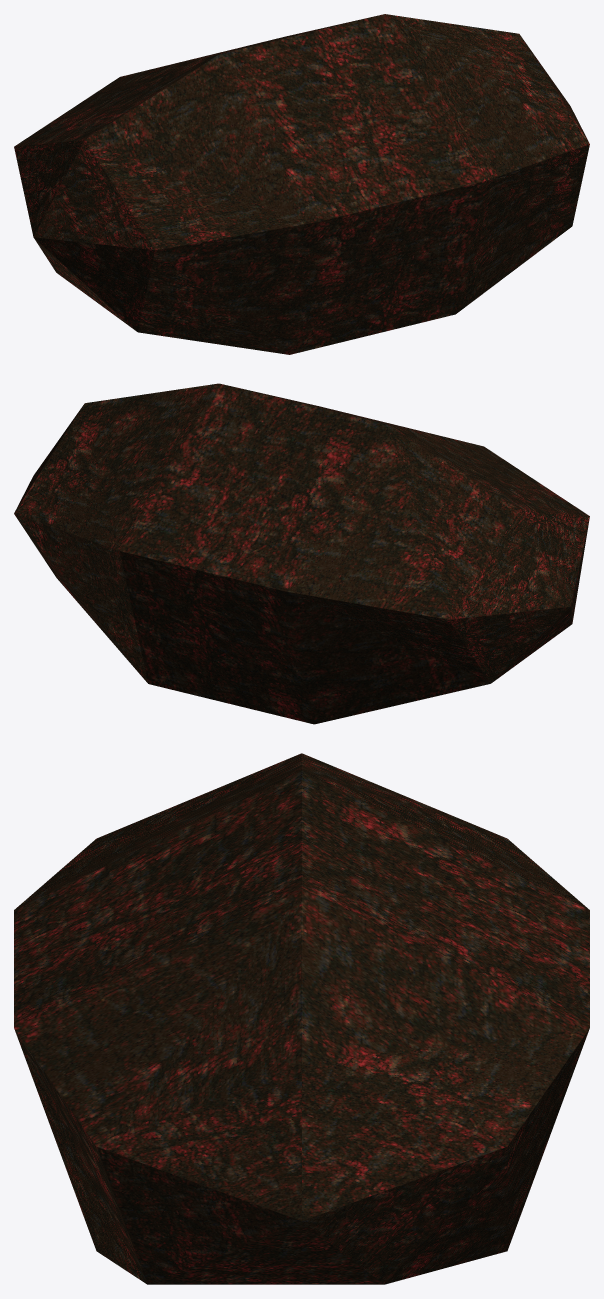
File: Rock.fbx
The picture shows the model from 3 angles, top to bottom: view 1: azimuth 30°, elevation 25°; view 2: azimuth 150°, elevation 25°; view 3: azimuth 270°, elevation 25°; orthographic projection. The views are drawn at different scales.
Parts seen in each view (by area): view 1: pSphere1; view 2: pSphere1; view 3: pSphere1.
Part boxes in pixels (x1=…): pSphere1: x1=14, y1=14, x2=589, y2=354; pSphere1: x1=14, y1=383, x2=589, y2=724; pSphere1: x1=14, y1=753, x2=589, y2=1284.
Size of the model in its own units: 2.72 by 1.2 by 1.74.
Materials: 1 (1 with a texture image).
